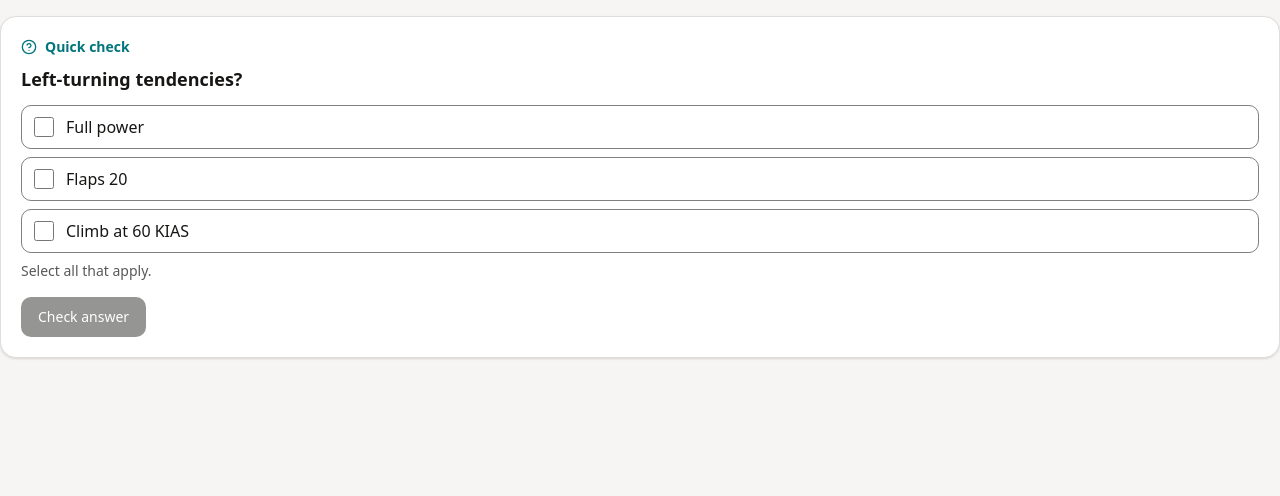
Test case: QuizBlock › checks multi-select answers
The width and height of the screenshot is (1280, 496).
Click the checkbox labelled "Full power": [44, 127] box top-left (34, 117), bottom-right (54, 137)
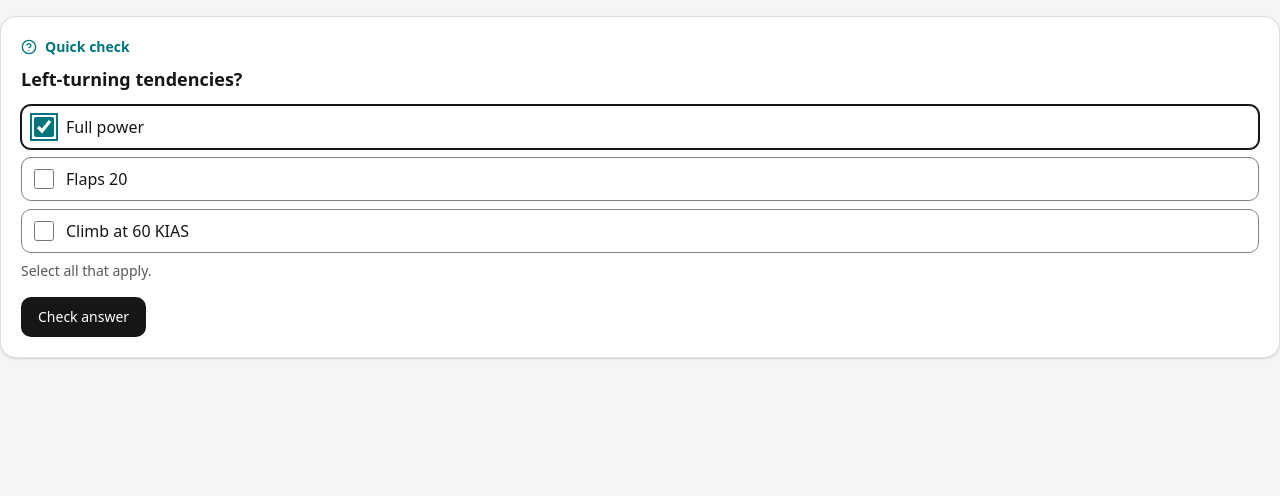
Click the button "Check answer": [84, 317] box top-left (21, 297), bottom-right (146, 337)
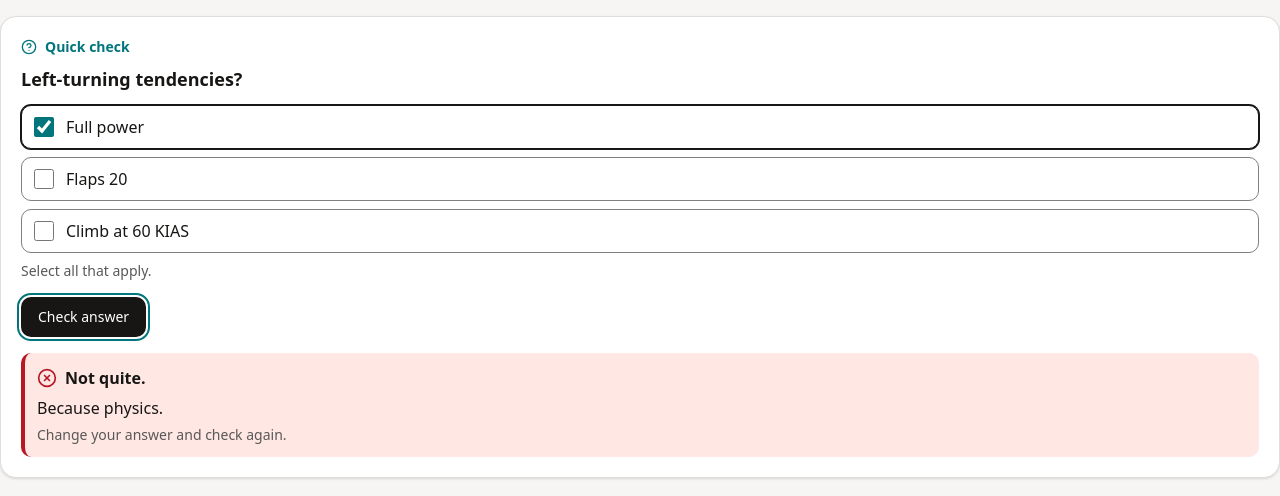
Result: the text "Not quite." is shown at top-left (37, 367), bottom-right (146, 389)
Click the checkbox labelled "Climb at 60 KIAS": [44, 231] box top-left (34, 221), bottom-right (54, 241)
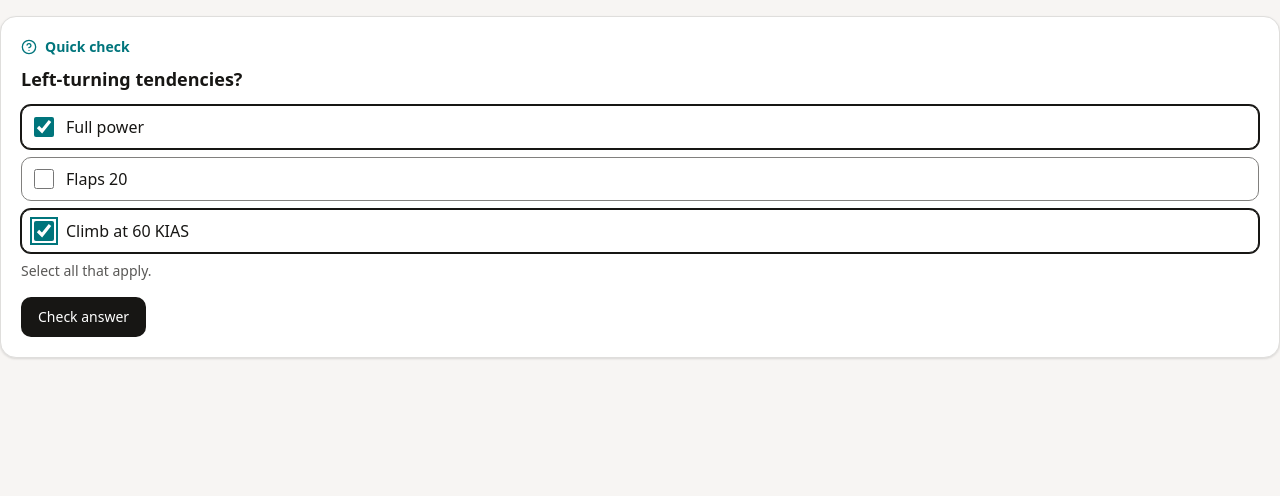
Click the button "Check answer": [84, 317] box top-left (21, 297), bottom-right (146, 337)
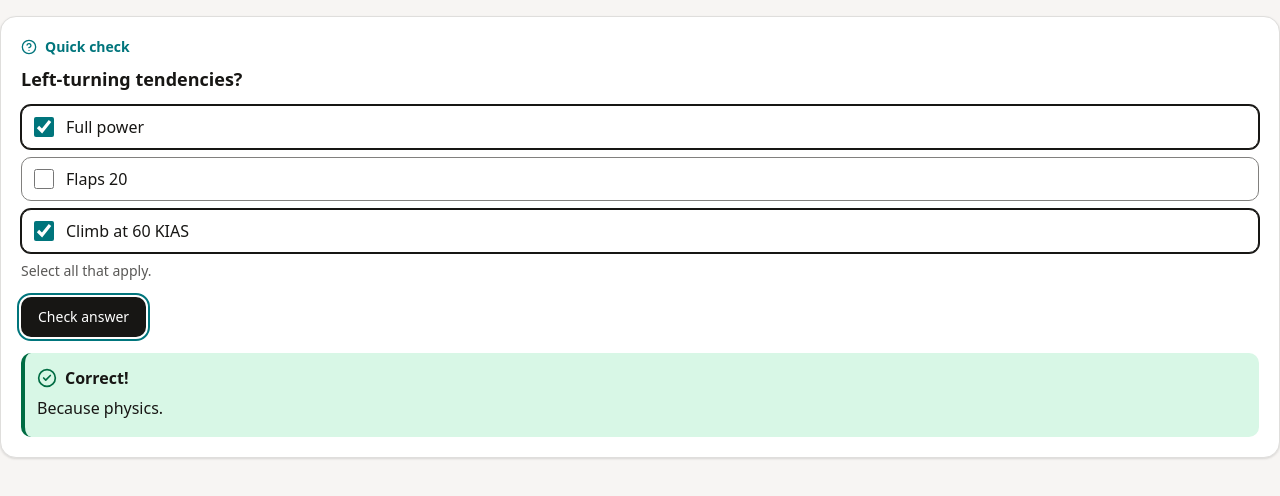
Result: the text "Correct!" is shown at top-left (37, 367), bottom-right (128, 389)
